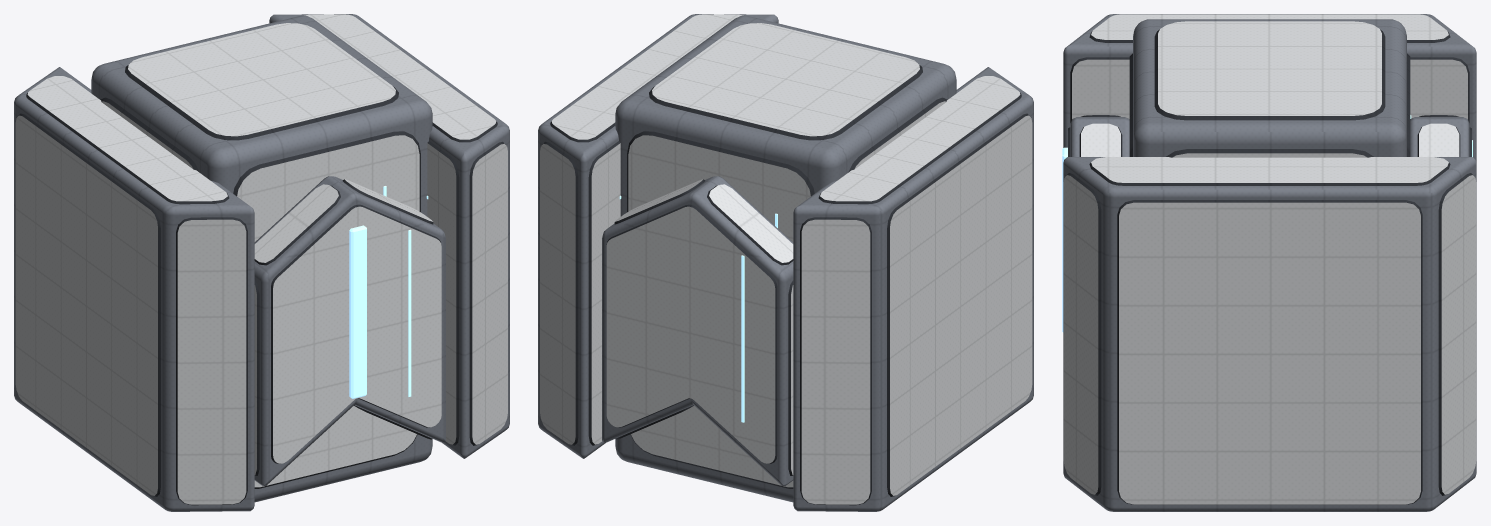
Rendered from R4X_HullBooster.glb.
3 views of the same model, side by side, from view 1: azimuth 30°, elevation 25°; view 2: azimuth 150°, elevation 25°; view 3: azimuth 270°, elevation 25° (orthographic). The views are drawn at different scales.
Parts seen in each view (by area): view 1: R4X_HullBooster_Body; view 2: R4X_HullBooster_Body; view 3: R4X_HullBooster_Body.
Boxes of the visible parts, left/top/right/bottom form: R4X_HullBooster_Body: left=14, top=14, right=509, bottom=511; R4X_HullBooster_Body: left=538, top=14, right=1033, bottom=511; R4X_HullBooster_Body: left=1062, top=14, right=1476, bottom=511.
Bounding box in the file's own units: 0.52 × 0.52 × 0.5028.
4 materials, 3 textured.
